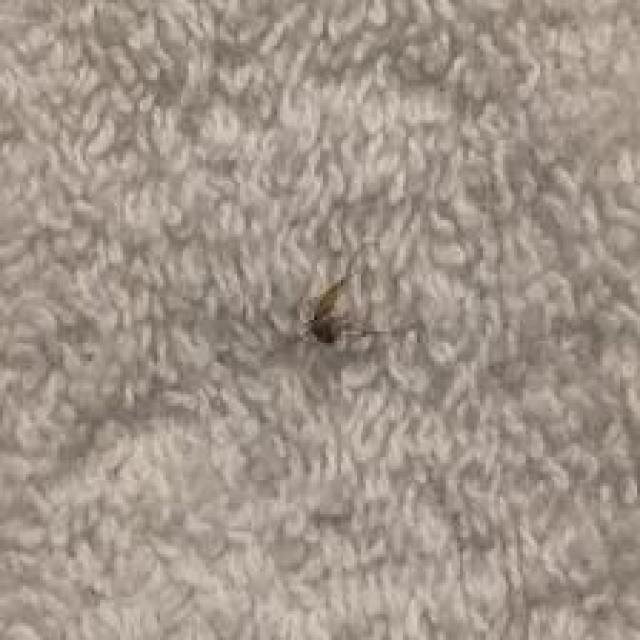Culex: (290, 238, 424, 353)
